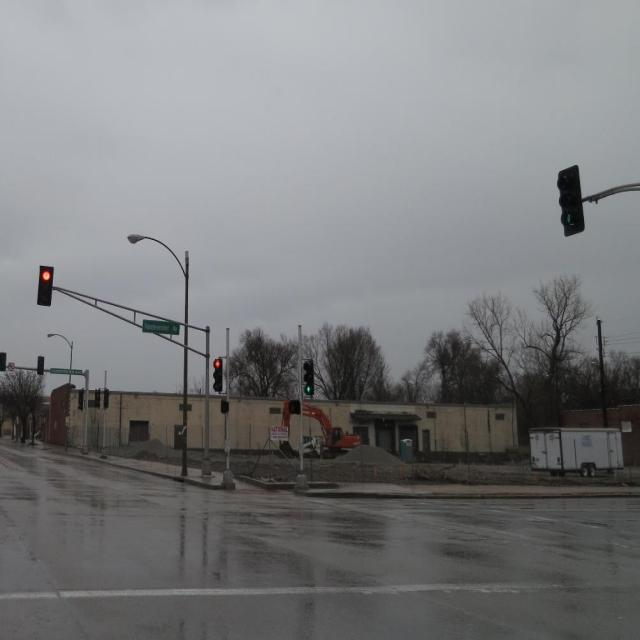traffic light: (555, 168, 586, 234), (38, 265, 54, 308), (301, 357, 316, 396), (213, 357, 224, 393)
